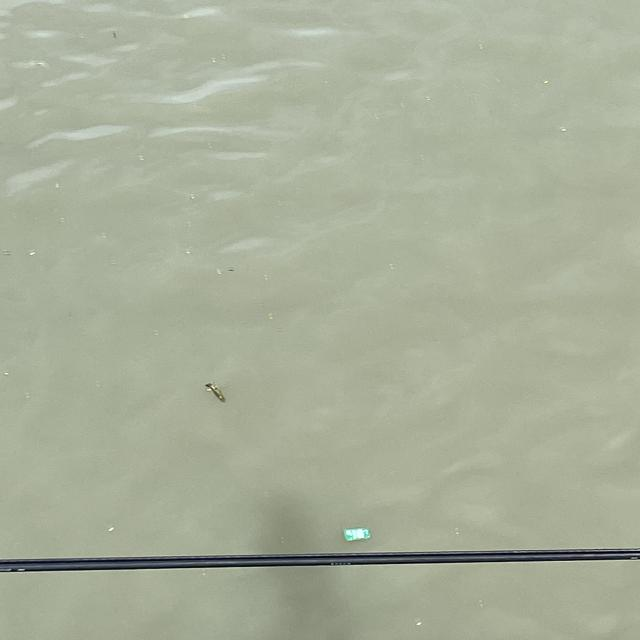Organic Debris: (205, 376, 231, 406)
Plastic: (335, 520, 377, 544)
